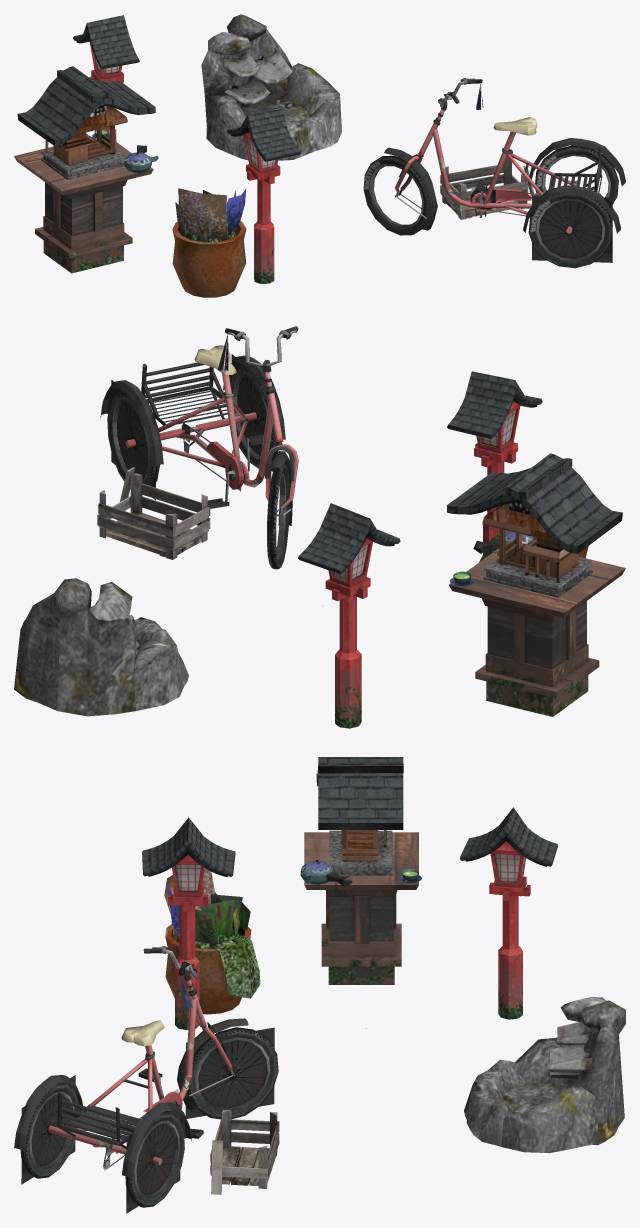
File: Japanese_OpenField.fbx
The picture shows the model from 3 angles, top to bottom: view 1: azimuth 30°, elevation 25°; view 2: azimuth 150°, elevation 25°; view 3: azimuth 270°, elevation 25°; orthographic projection. The views are drawn at different scales.
Visible parts, largest first — view 1: 5 Prop Assignment; view 2: 5 Prop Assignment; view 3: 5 Prop Assignment.
Part boxes in pixels (x1,y1,x2,y2): 5 Prop Assignment: (14,14,625,297); 5 Prop Assignment: (14,326,625,728); 5 Prop Assignment: (14,757,625,1213).
Size of the model in its own units: 9802 by 3366 by 8944.
